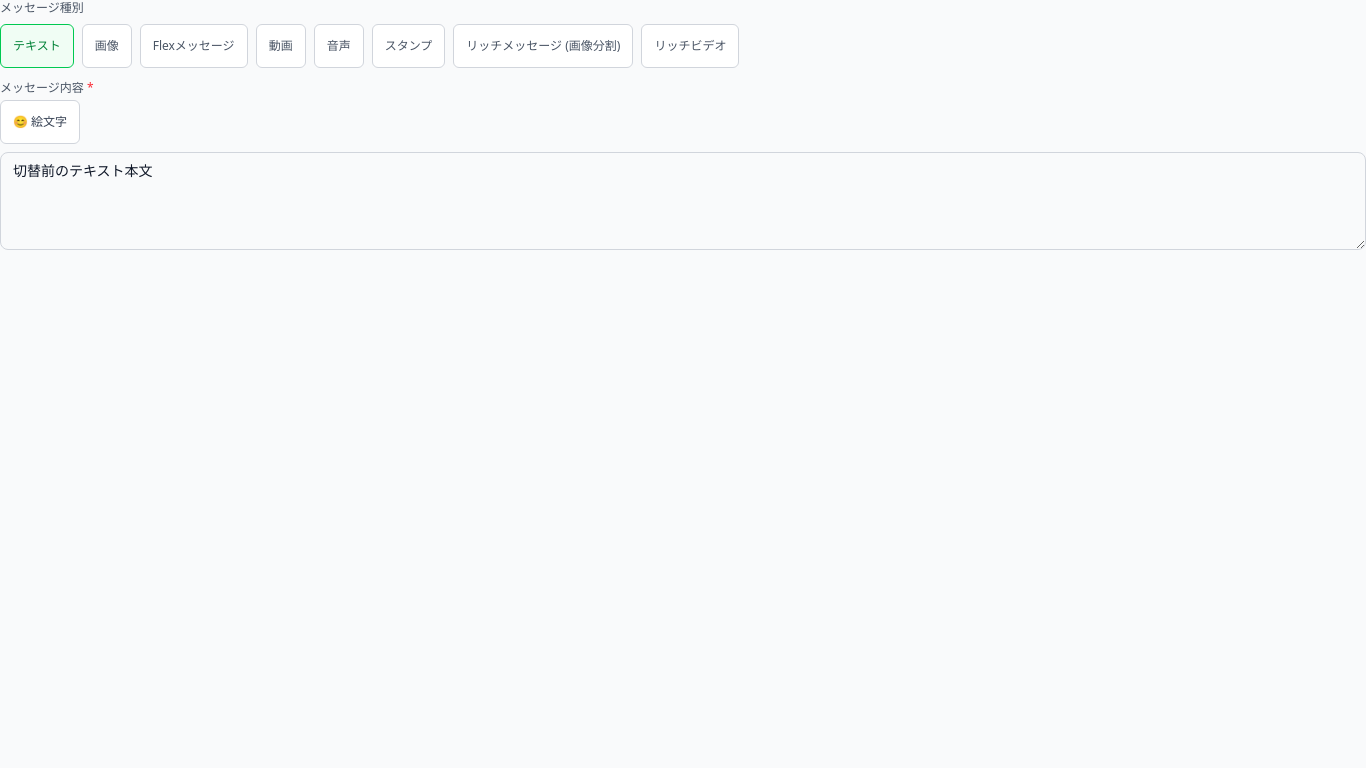
it: broadcast Flex ビルダーの作り直し導線 › Esc で確認をキャンセルし、起動ボタンへフォーカスを戻す
Click the button "Flexメッセージ".
click(194, 46)  # box [140,24,248,68]
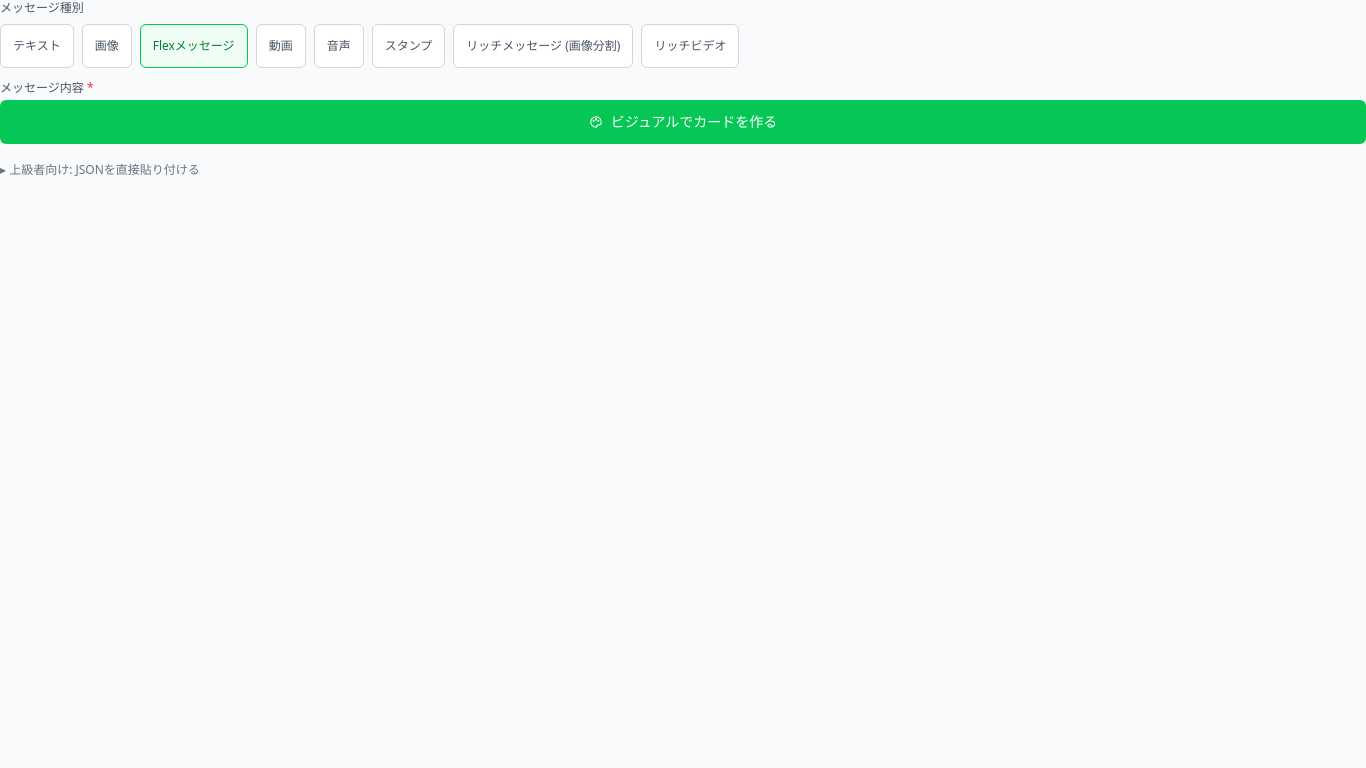
Click the button "ビジュアルでカードを作る".
click(683, 122)  # box [0,100,1365,144]
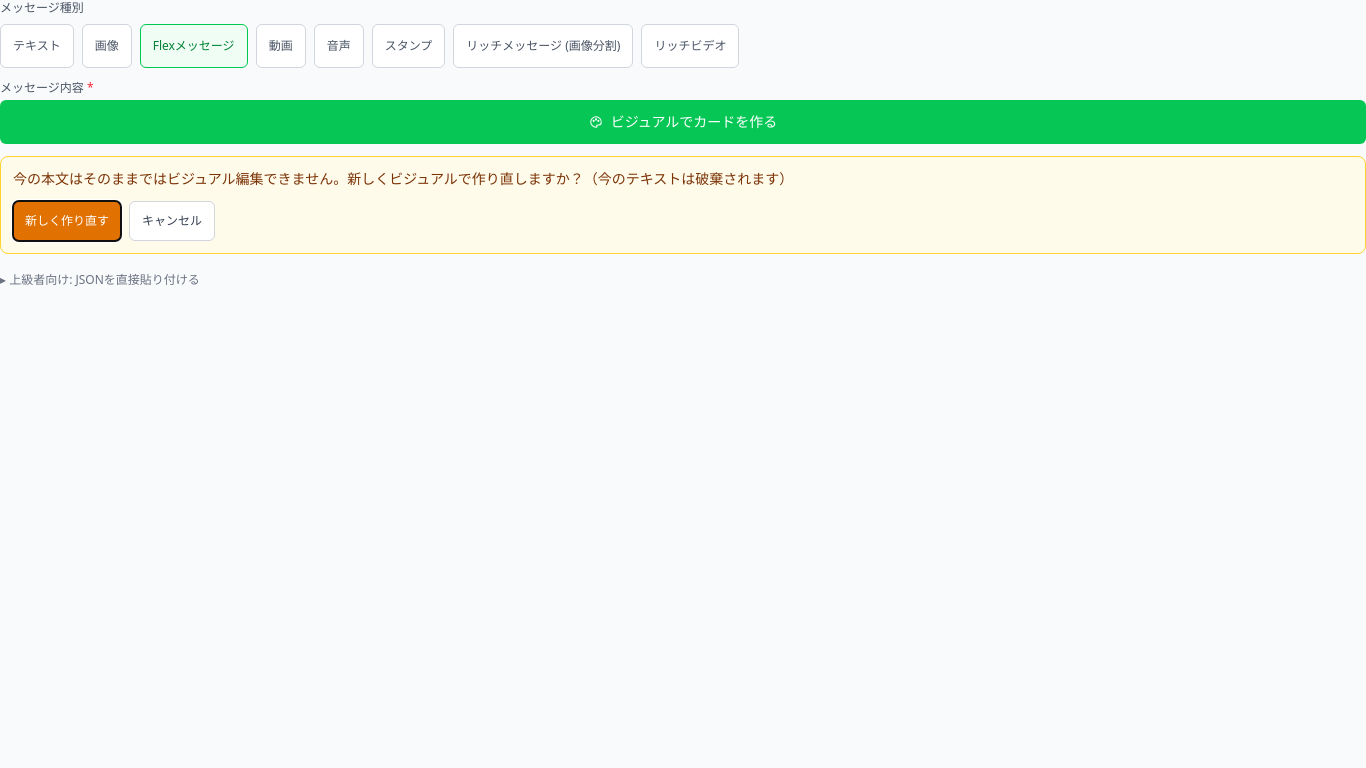
Press Escape in the dialog named "Flexを新しく作り直す確認", box [0,156,1365,254]
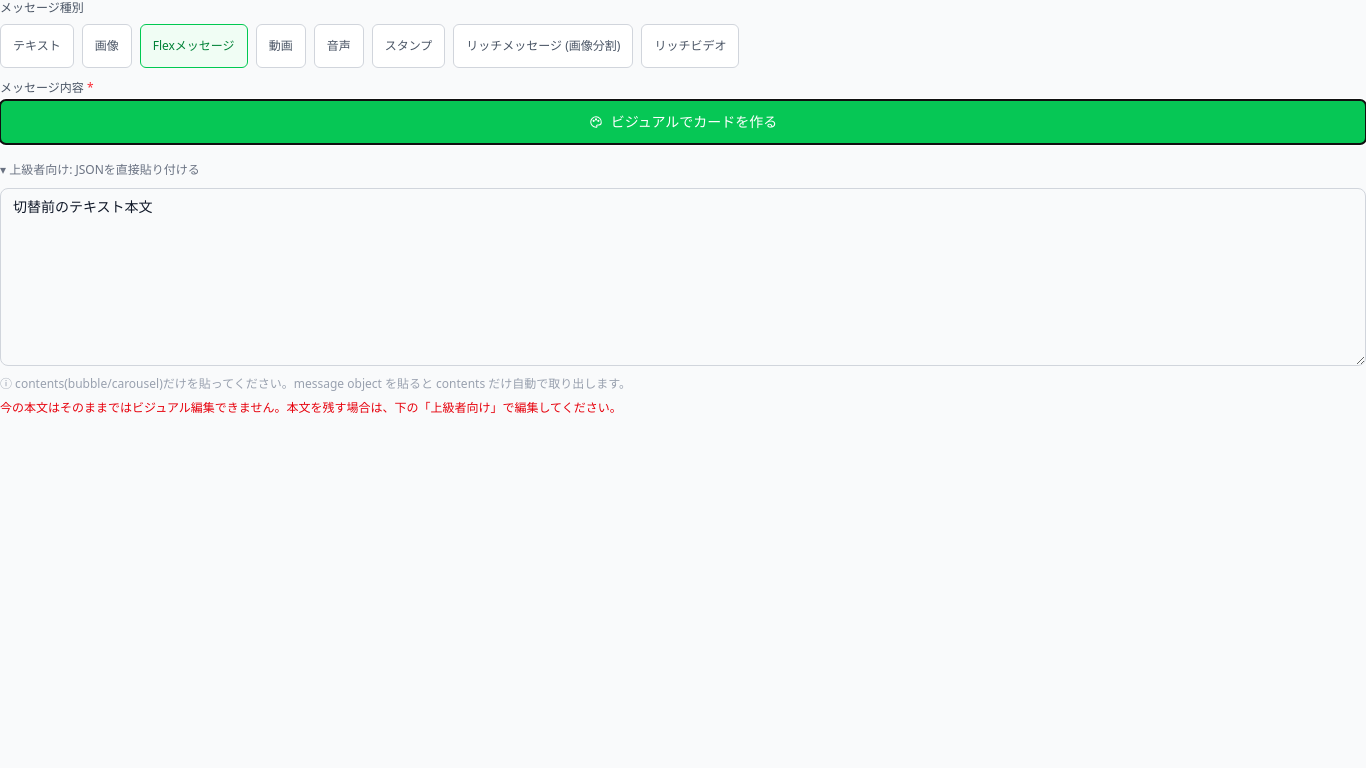
Check: the dialog "Flexを新しく作り直す確認" is gone
Check: the message reads "今の本文はそのままではビジュアル編集できません。本文を残す場合は、下の「上級者向け」で編集してください。", box [0,399,622,416]
